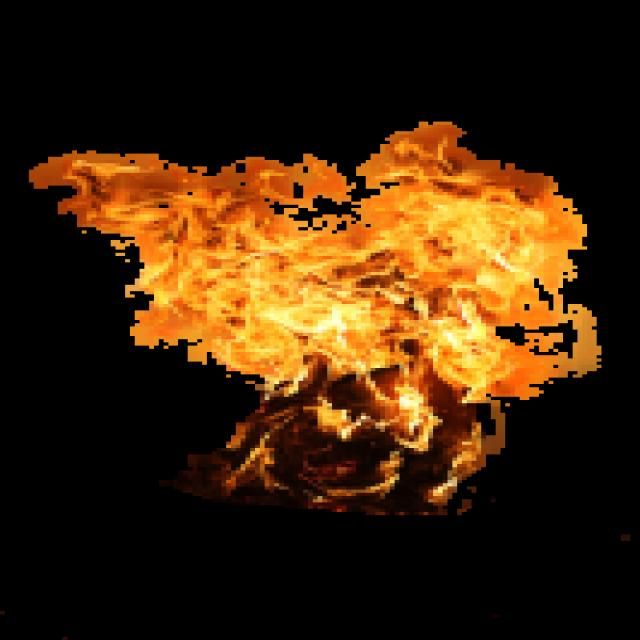fire: (84, 112, 508, 496)
